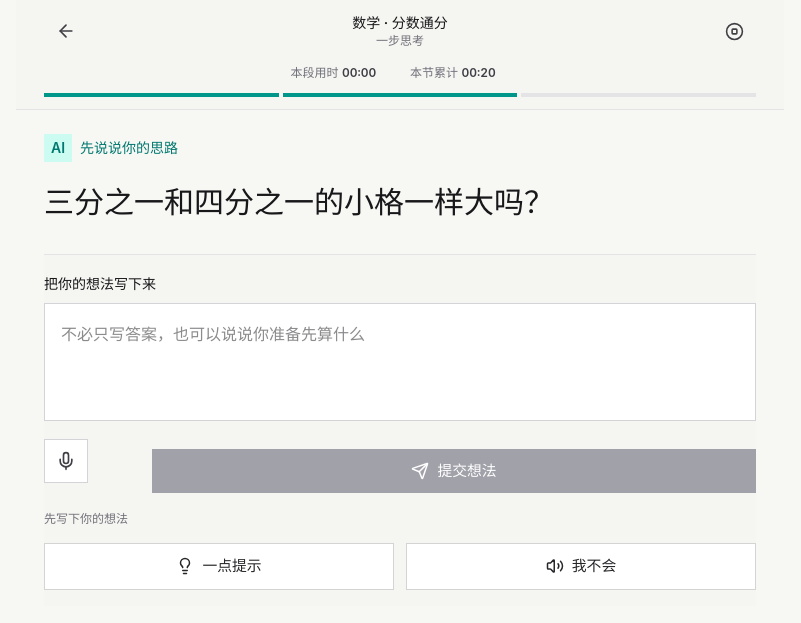
Test: keeps controls and typed text after HINT generation throttling
Step 1. Type "尚未提交的课堂草稿" into the text box with id "student-answer" → point(400, 362), box left=44, top=303, right=756, bottom=421
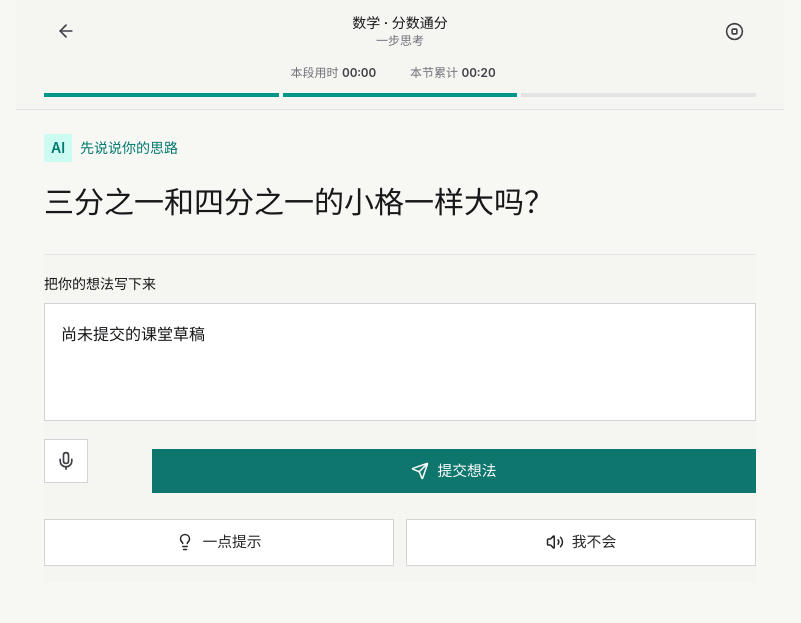
Step 2. Click the button "一点提示" → point(219, 542), box left=44, top=519, right=394, bottom=566
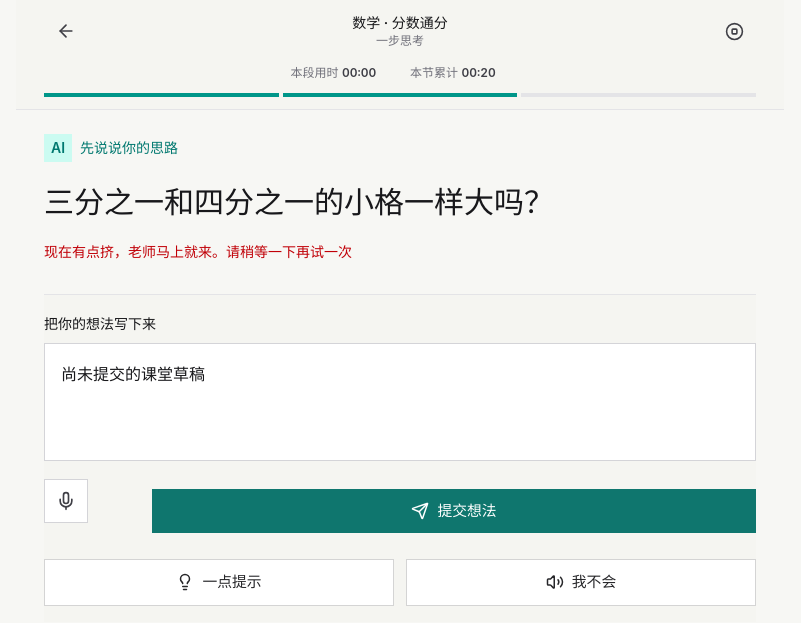
Expected: the element with test id "answer-controls" is enabled, left=44, top=311, right=756, bottom=606
Expected: the message "现在有点挤，老师马上就来。请稍等一下再试一次" is shown, left=44, top=243, right=352, bottom=260
